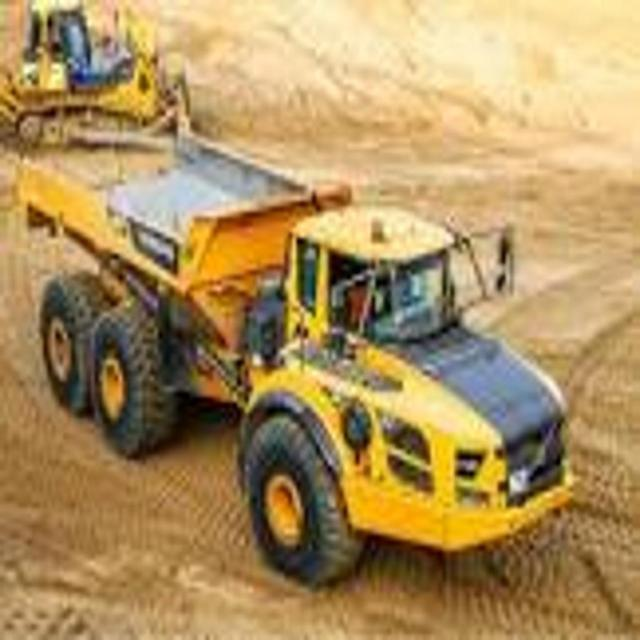dump_truck: (13, 145, 579, 583)
